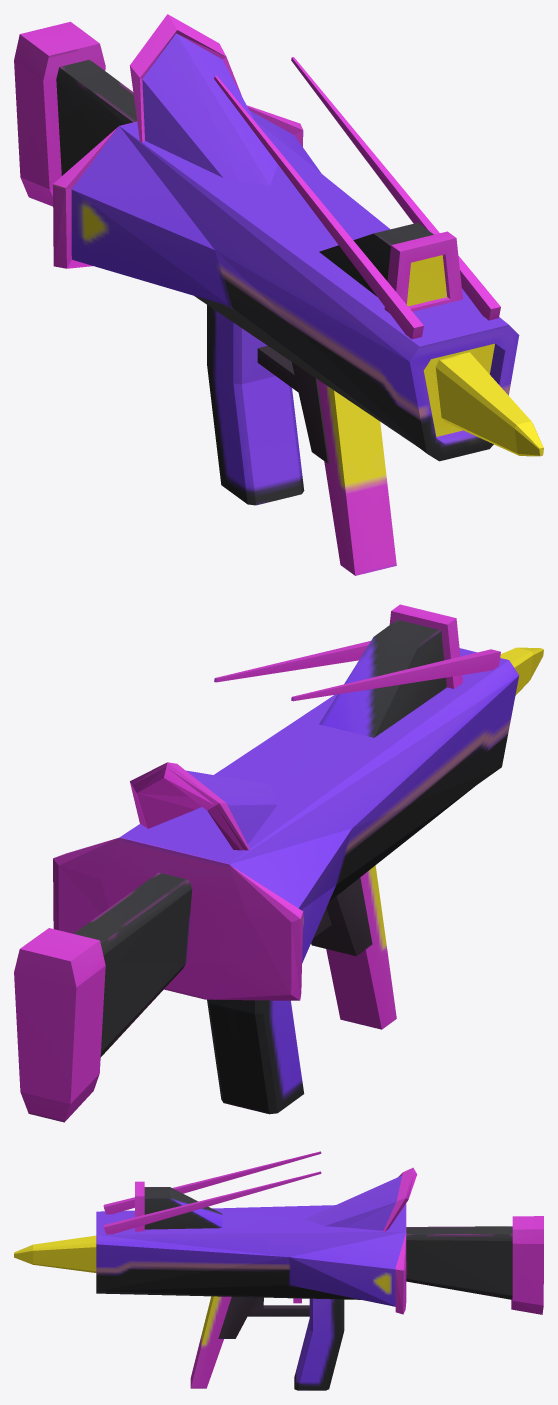
The model's file is laser_gun.fbx.
The picture shows the model from 3 angles, top to bottom: view 1: azimuth 30°, elevation 25°; view 2: azimuth 150°, elevation 25°; view 3: azimuth 270°, elevation 25°; orthographic projection. The views are drawn at different scales.
Visible parts, largest first — view 1: laser_gun; view 2: laser_gun; view 3: laser_gun.
Part boxes in pixels (bbox=[...]): laser_gun: bbox=[14, 14, 543, 575]; laser_gun: bbox=[14, 604, 543, 1122]; laser_gun: bbox=[14, 1151, 543, 1390].
Bounding box in the file's own units: 4.38 × 7.02 × 15.21.
Materials: 1 (1 with a texture image).
